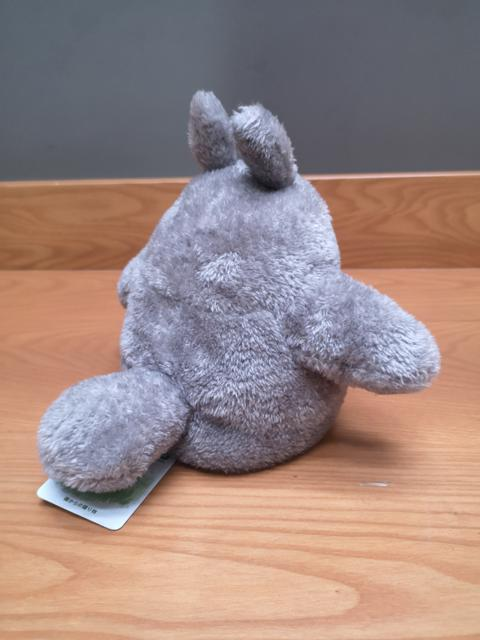totoro: (32, 83, 445, 533)
